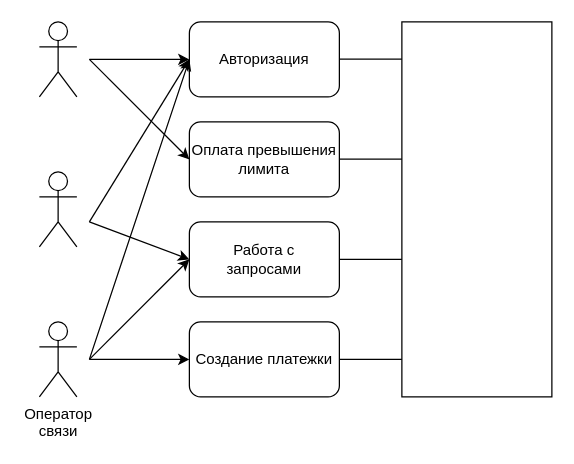
Image size: 574x464. Some labels were removed from this diagram. Here are the shapes that lost their labels. From the top down, the box of each, then its label:
(38, 21, 77, 97): Сотрудник компании
(38, 171, 77, 247): Юр. лицо компании
(401, 21, 552, 397): Информационная система
